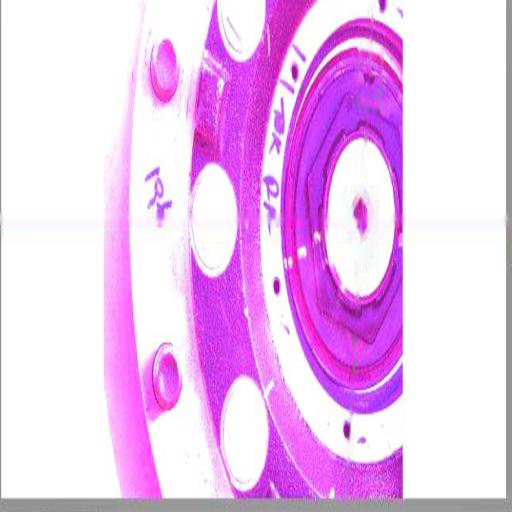center: (349, 196, 368, 234)
notch: (361, 59, 377, 101)
